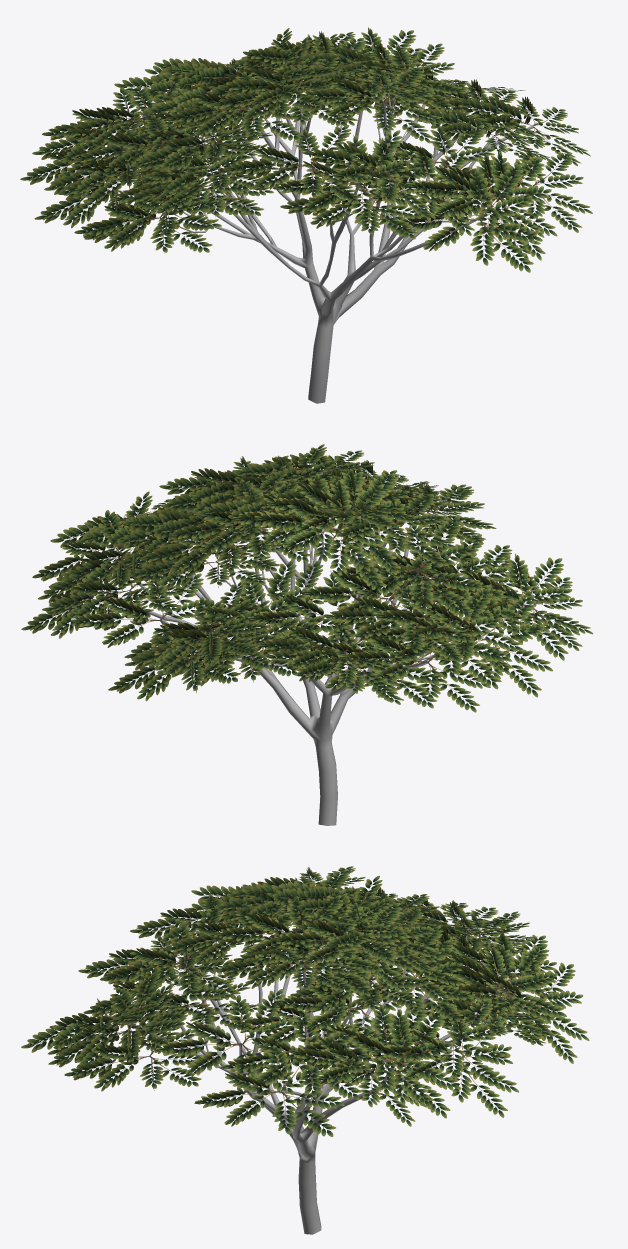
Rendered from acaciaSavanna_01_v02.fbx.
3 renders of one model, top to bottom at view 1: azimuth 30°, elevation 25°; view 2: azimuth 150°, elevation 25°; view 3: azimuth 270°, elevation 25°, orthographic. The views are drawn at different scales.
Visible parts, largest first — view 1: TRUNK, polySurface119, polySurface359, polySurface455, polySurface235, polySurface427, polySurface287, polySurface191, polySurface203, polySurface19, polySurface215, polySurface163 (+47 smaller); view 2: TRUNK, polySurface531, polySurface163, polySurface231, polySurface627, polySurface51, polySurface147, polySurface243, polySurface579, polySurface623, polySurface483, polySurface651 (+57 smaller); view 3: TRUNK, polySurface311, polySurface699, polySurface279, polySurface331, polySurface583, polySurface103, polySurface679, polySurface71, polySurface463, polySurface299, polySurface259 (+60 smaller).
Boxes of the visible parts, x1,y1,x2,y2 form: TRUNK: (108, 73, 533, 403); polySurface119: (470, 219, 542, 272); polySurface359: (466, 164, 532, 219); polySurface455: (346, 130, 411, 183); polySurface235: (372, 101, 444, 143); polySurface427: (490, 152, 551, 203); polySurface287: (430, 125, 495, 162); polySurface191: (299, 165, 372, 203); polySurface203: (356, 204, 426, 239); polySurface19: (526, 186, 592, 232); polySurface215: (349, 184, 421, 234); polySurface163: (155, 199, 222, 237); TRUNK: (109, 472, 507, 825); polySurface531: (409, 570, 483, 619); polySurface163: (506, 555, 572, 604); polySurface231: (241, 560, 307, 619); polySurface627: (437, 637, 511, 689); polySurface51: (404, 515, 472, 569); polySurface147: (434, 588, 502, 635); polySurface243: (254, 497, 338, 552); polySurface579: (416, 662, 490, 712); polySurface623: (480, 644, 552, 697); polySurface483: (326, 531, 397, 593); polySurface651: (401, 623, 475, 662); TRUNK: (107, 909, 527, 1234); polySurface311: (272, 1091, 344, 1136); polySurface699: (388, 1009, 453, 1060); polySurface279: (373, 1052, 444, 1108); polySurface331: (440, 1044, 512, 1087); polySurface583: (228, 989, 294, 1044); polySurface103: (156, 1021, 242, 1075); polySurface679: (492, 944, 557, 990); polySurface71: (195, 1072, 280, 1124); polySurface463: (450, 1064, 518, 1117); polySurface299: (299, 1056, 370, 1099); polySurface259: (139, 1053, 211, 1088).
Size of the model in its own units: 5.11 by 3.13 by 4.88.
